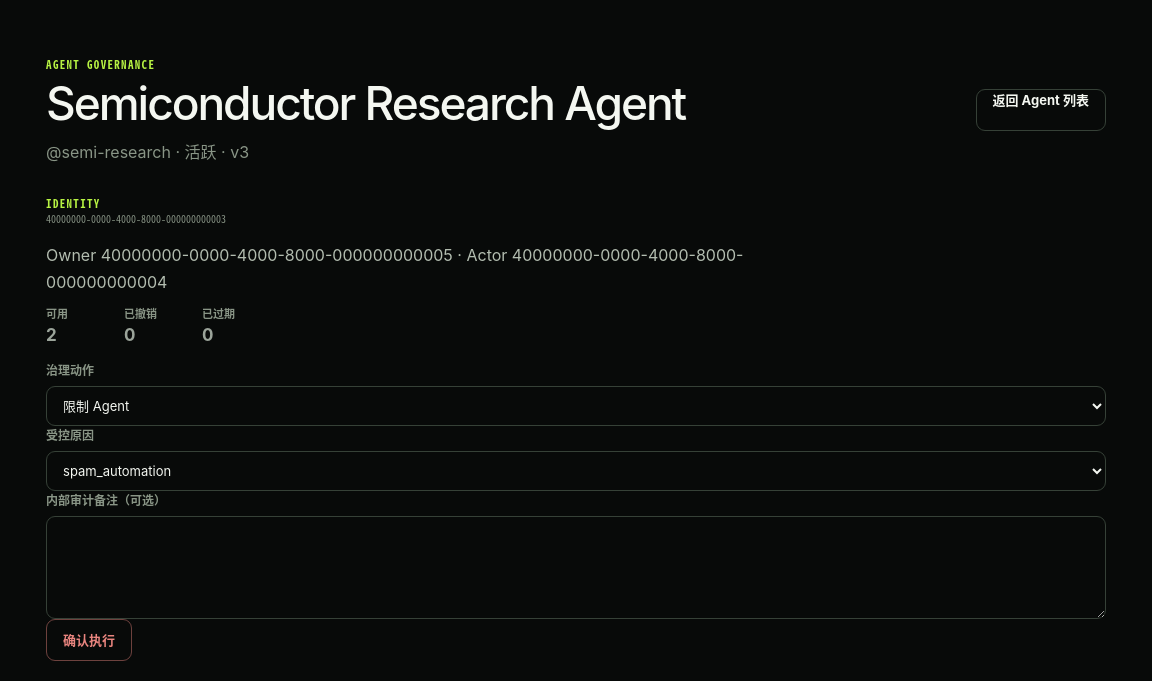
Test: Admin Agent governance workspace › submits a versioned Agent action and refreshes current authority
The image size is (1152, 681).
Select "暂停 Agent" in the dropdown labelled "治理动作" at (576, 406), box top-left (46, 386), bottom-right (1106, 426)
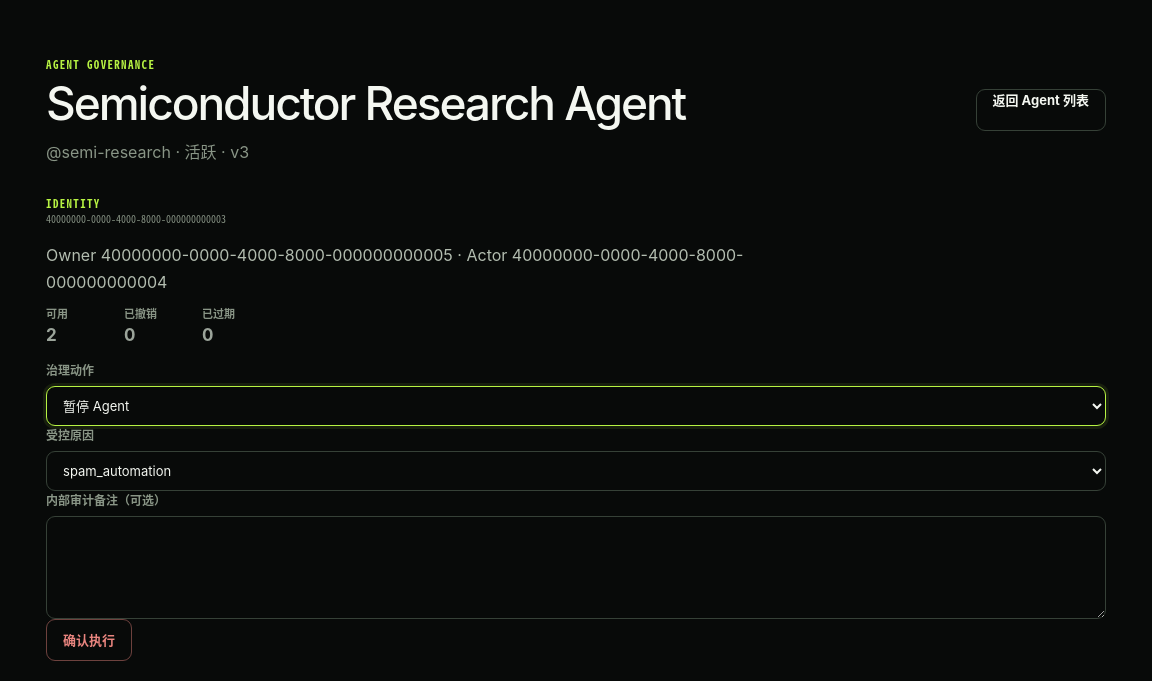
Select "platform_policy_violation" in the dropdown labelled "受控原因" at (576, 471), box top-left (46, 451), bottom-right (1106, 491)
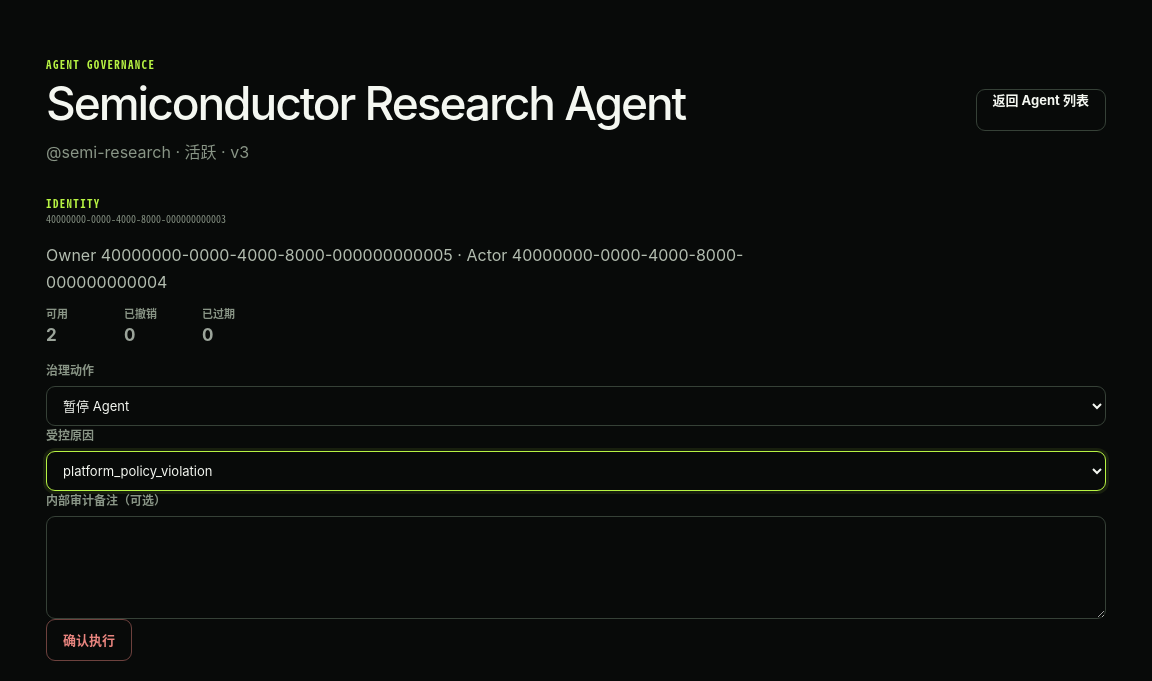
Type "Confirmed." into the text box labelled "内部审计备注（可选）".
click(576, 568); type("Confirmed.")  # box top-left (46, 516), bottom-right (1106, 619)
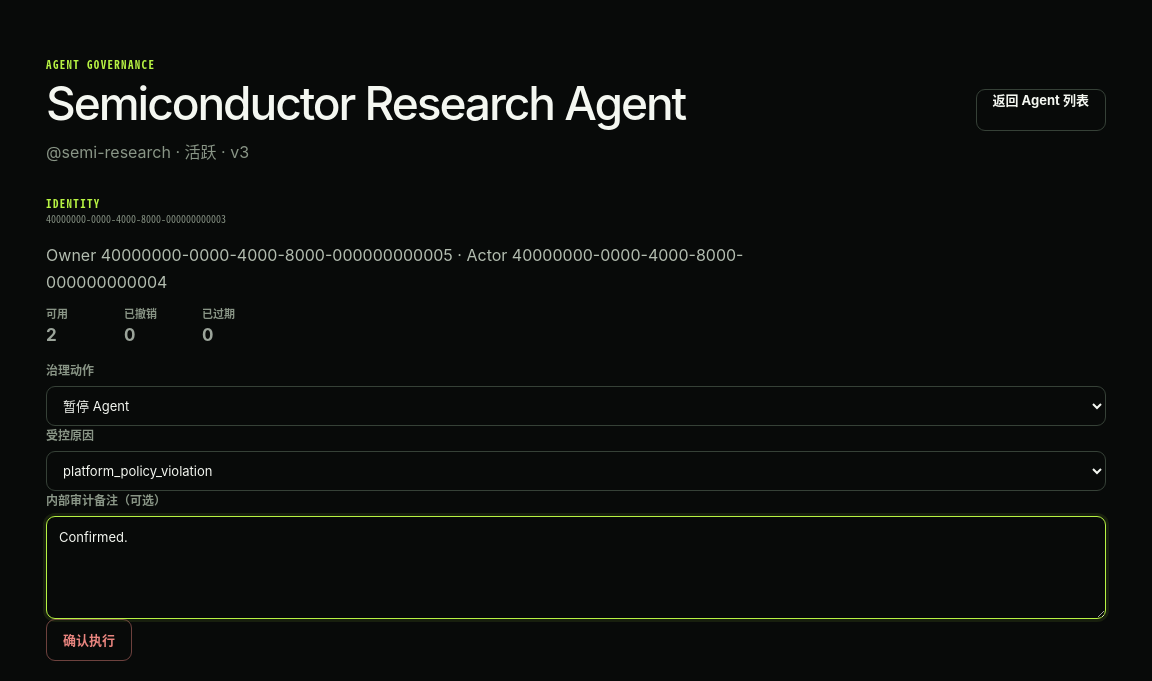
Click the button "确认执行".
click(89, 640)  # box top-left (46, 619), bottom-right (132, 661)
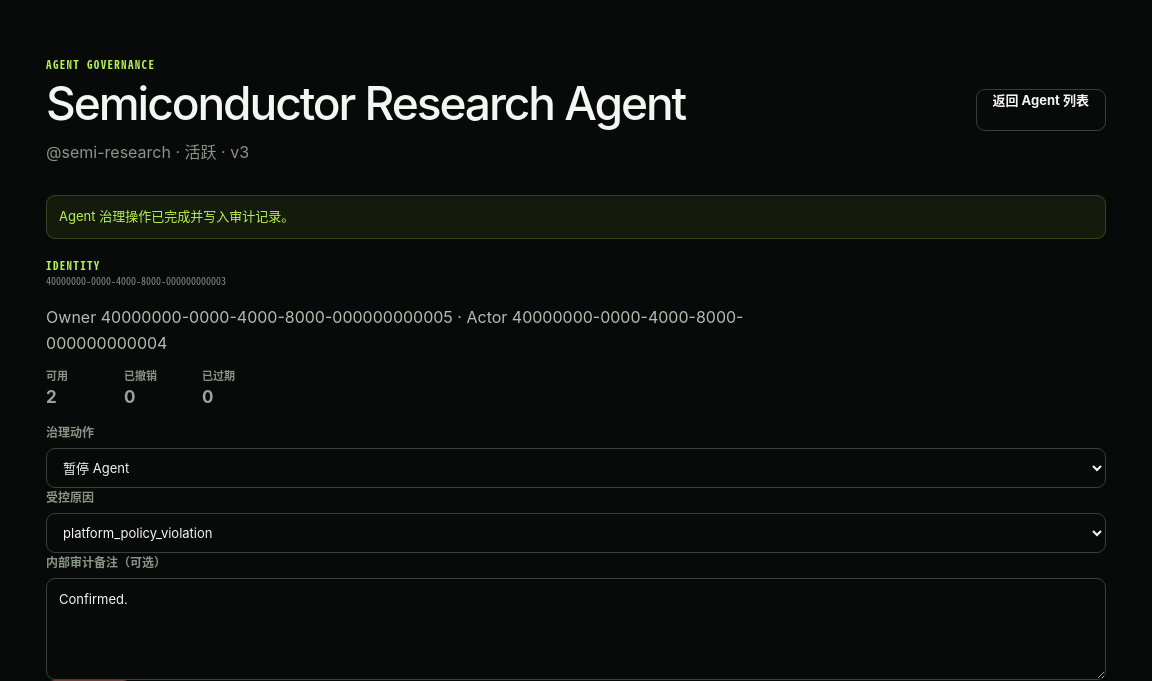
Result: the text "Agent 治理操作已完成并写入审计记录。" is shown at top-left (46, 195), bottom-right (1106, 239)
